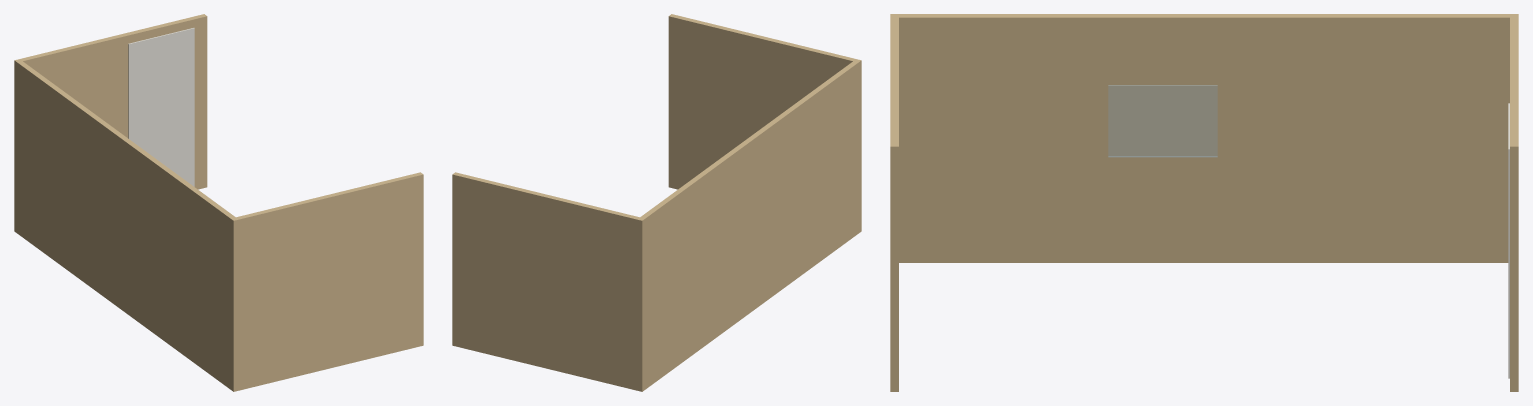
The model's file is walls-exterior-shell.glb.
3 views of the same model, side by side, from view 1: azimuth 30°, elevation 25°; view 2: azimuth 150°, elevation 25°; view 3: azimuth 270°, elevation 25° (orthographic). The views are drawn at different scales.
Parts seen in each view (by area): view 1: left plywood sheathing wall, front plywood wall, rear plywood wall with cheap door, cheap stock rear door; view 2: left plywood sheathing wall, rear plywood wall with cheap door, front plywood wall; view 3: left plywood sheathing wall, stock side window, rear plywood wall with cheap door, front plywood wall, cheap stock rear door.
Part boxes in pixels (box(x1,y1,x2,y2)): left plywood sheathing wall: box(14, 59, 238, 391); front plywood wall: box(230, 172, 423, 391); rear plywood wall with cheap door: box(14, 14, 207, 233); cheap stock rear door: box(128, 28, 194, 186); left plywood sheathing wall: box(637, 59, 861, 391); rear plywood wall with cheap door: box(452, 172, 645, 391); front plywood wall: box(668, 14, 861, 228); left plywood sheathing wall: box(890, 14, 1518, 262); stock side window: box(1108, 85, 1217, 157); rear plywood wall with cheap door: box(1510, 14, 1518, 391); front plywood wall: box(890, 14, 898, 391); cheap stock rear door: box(1508, 103, 1509, 378).
Size of the model in its own units: 1.83 by 1.57 by 3.66.
